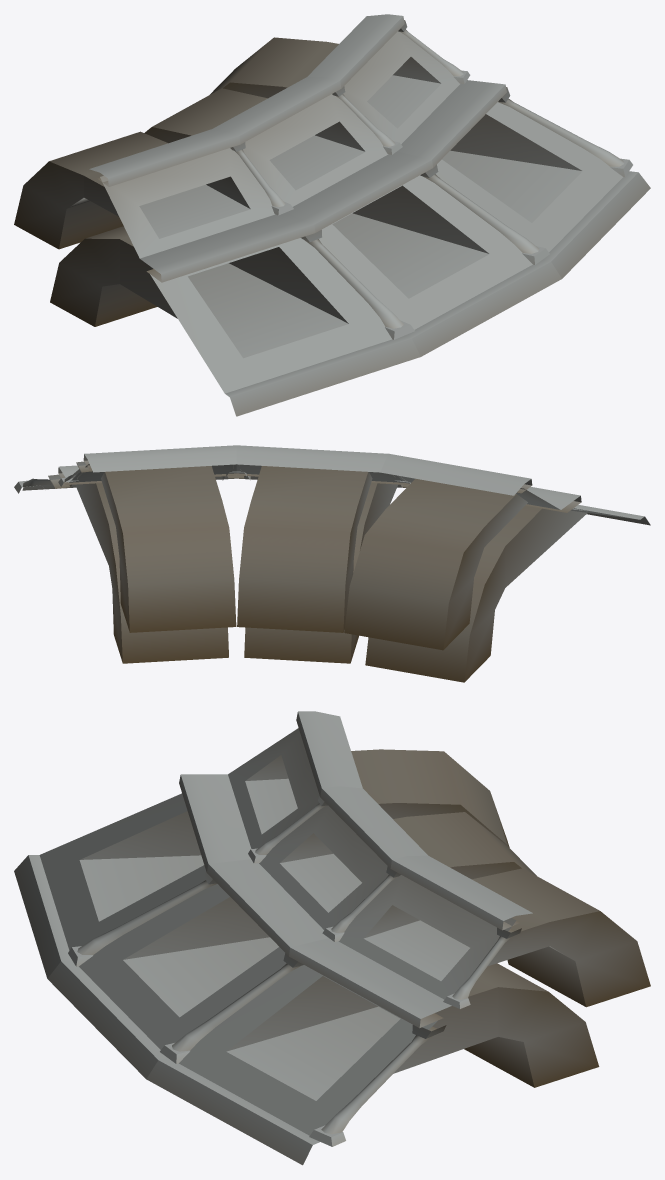
3 renders of one model, top to bottom at view 1: azimuth 30°, elevation 25°; view 2: azimuth 150°, elevation 25°; view 3: azimuth 270°, elevation 25°, orthographic. The views are drawn at different scales.
Visible parts, largest first — view 1: G:\FFXIV-MapTools\exports\d2f3\bg\ex1\02_dra_d2\fld\d2f3\bgp (×6); view 2: G:\FFXIV-MapTools\exports\d2f3\bg\ex1\02_dra_d2\fld\d2f3\bgp (×4); view 3: G:\FFXIV-MapTools\exports\d2f3\bg\ex1\02_dra_d2\fld\d2f3\bgp (×6).
Boxes of the visible parts, left/top/right/bottom form: G:\FFXIV-MapTools\exports\d2f3\bg\ex1\02_dra_d2\fld\d2f3\bgp (×6): left=14, top=14, right=650, bottom=416; G:\FFXIV-MapTools\exports\d2f3\bg\ex1\02_dra_d2\fld\d2f3\bgp (×4): left=14, top=445, right=650, bottom=682; G:\FFXIV-MapTools\exports\d2f3\bg\ex1\02_dra_d2\fld\d2f3\bgp (×6): left=14, top=711, right=650, bottom=1165.
Size of the model in its own units: 19.59 by 5.95 by 17.91.
